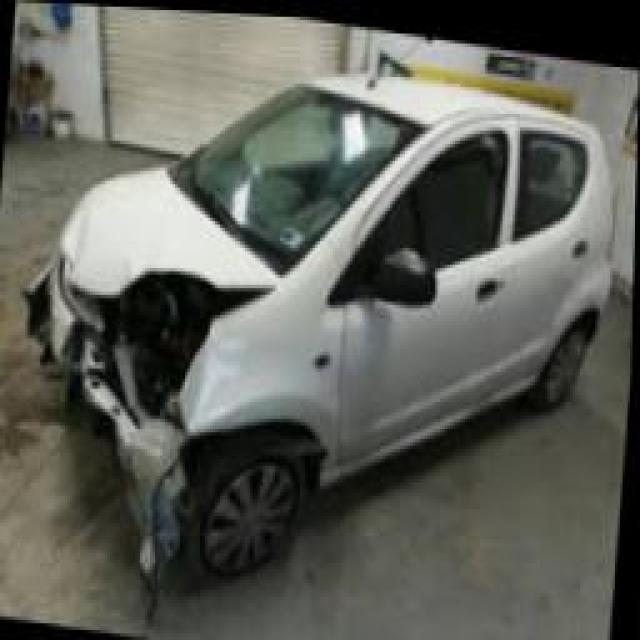Bonnet: (60, 159, 287, 292)
Bumper: (26, 274, 191, 613)
Light: (107, 324, 198, 410)
